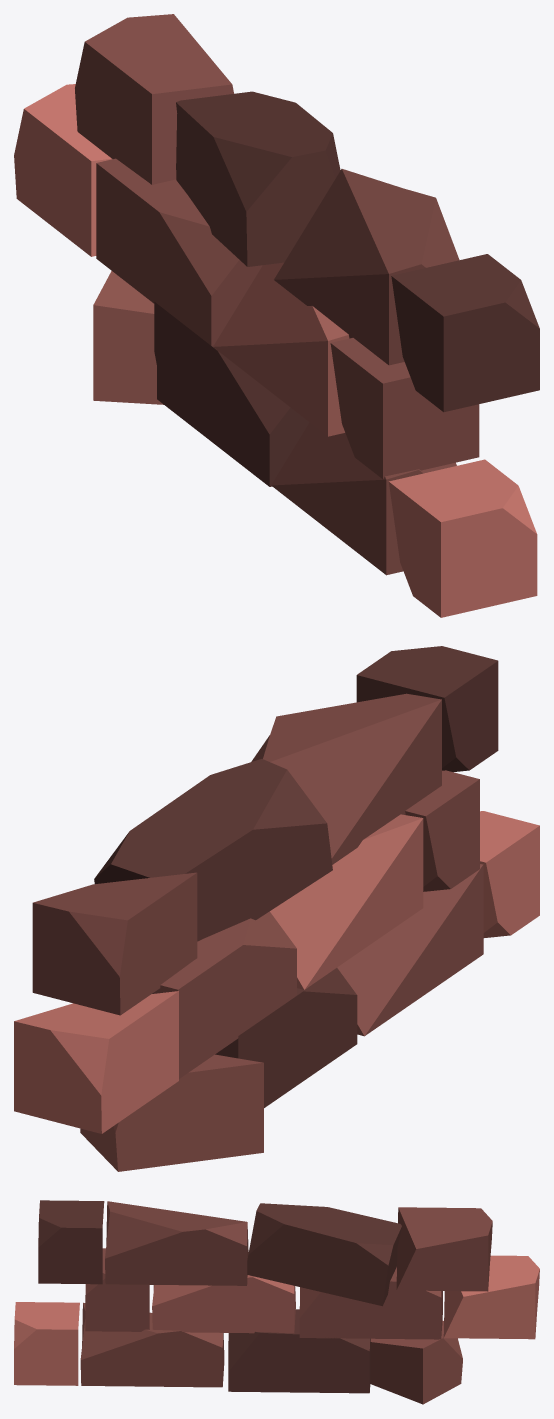
The model's file is Brick.fbx.
3 renders of one model, top to bottom at view 1: azimuth 30°, elevation 25°; view 2: azimuth 150°, elevation 25°; view 3: azimuth 270°, elevation 25°, orthographic. The views are drawn at different scales.
Visible parts, largest first — view 1: brick og.001; view 2: brick og.001; view 3: brick og.001.
Boxes of the visible parts, x1,y1,x2,y2 form: brick og.001: (14, 14, 539, 617); brick og.001: (14, 646, 539, 1171); brick og.001: (14, 1200, 539, 1404).
Size of the model in its own units: 159 by 254 by 675.
